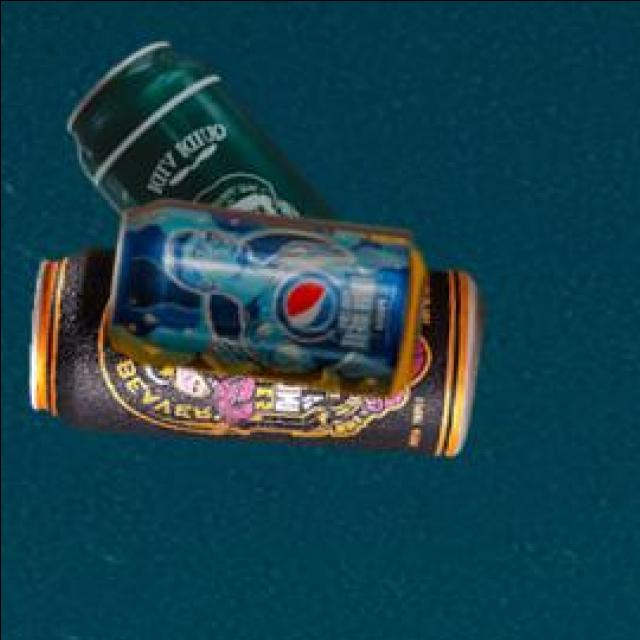logam: (25, 250, 480, 459), (105, 203, 421, 399), (63, 44, 335, 226)
